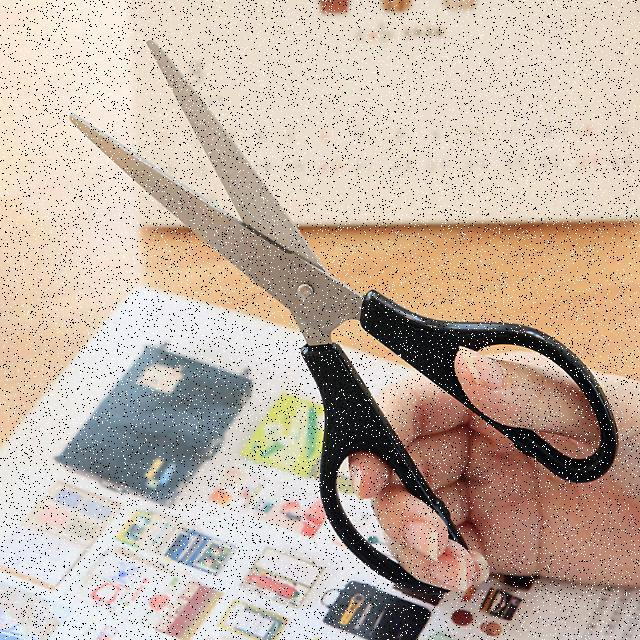scissors: (66, 36, 620, 602)
